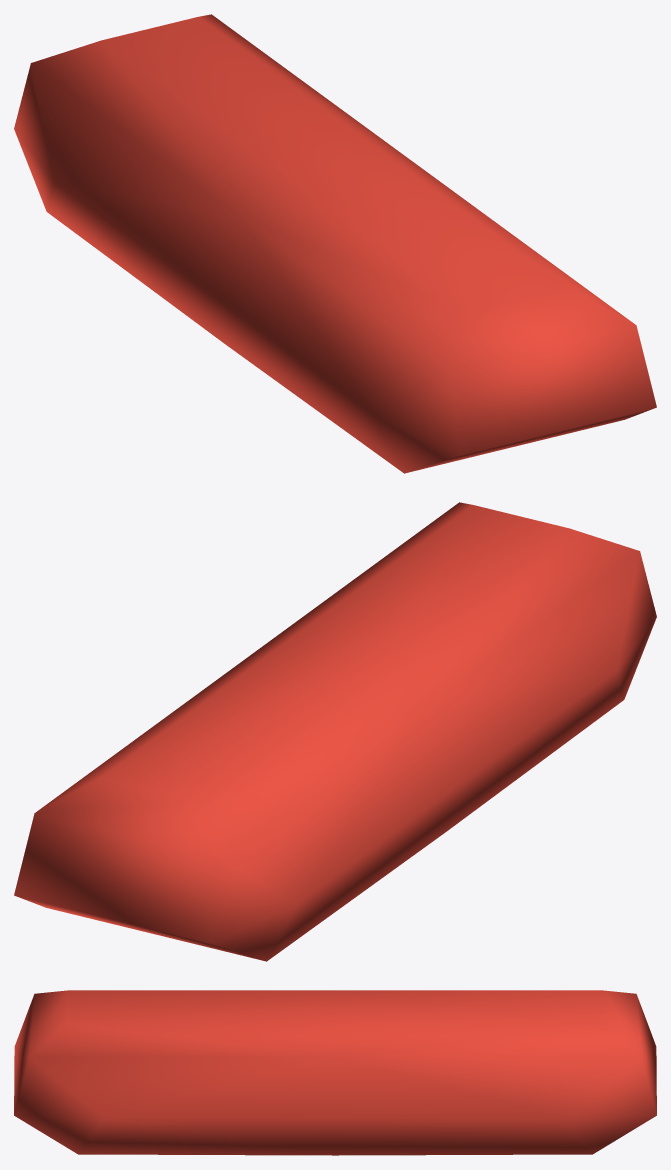
Rendered from bannerRed.obj.
The picture shows the model from 3 angles, top to bottom: view 1: azimuth 30°, elevation 25°; view 2: azimuth 150°, elevation 25°; view 3: azimuth 270°, elevation 25°; orthographic projection. The views are drawn at different scales.
Parts seen in each view (by area): view 1: Cube; view 2: Cube; view 3: Cube.
Boxes of the visible parts, x1,y1,x2,y2 form: Cube: [14, 14, 656, 473]; Cube: [14, 502, 656, 961]; Cube: [14, 990, 656, 1155].
Bounding box in the file's own units: 0.0941 × 0.0586 × 0.3128.
